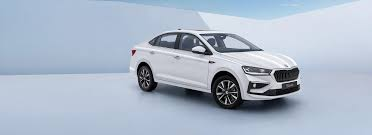car: (125, 28, 301, 111)
